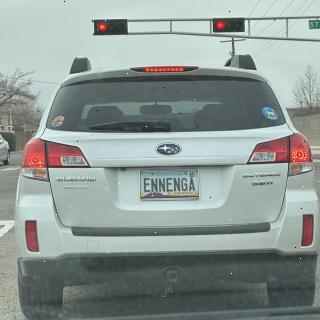license: (139, 170, 201, 202)
